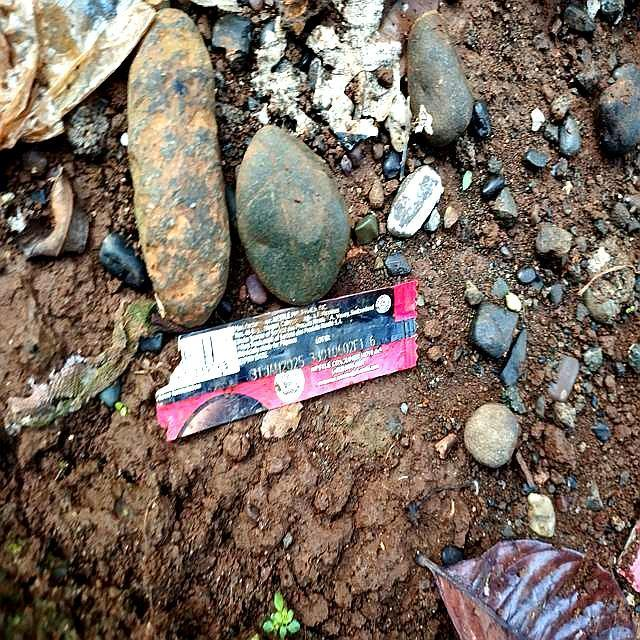Non-biodegradable: (153, 278, 422, 444)
